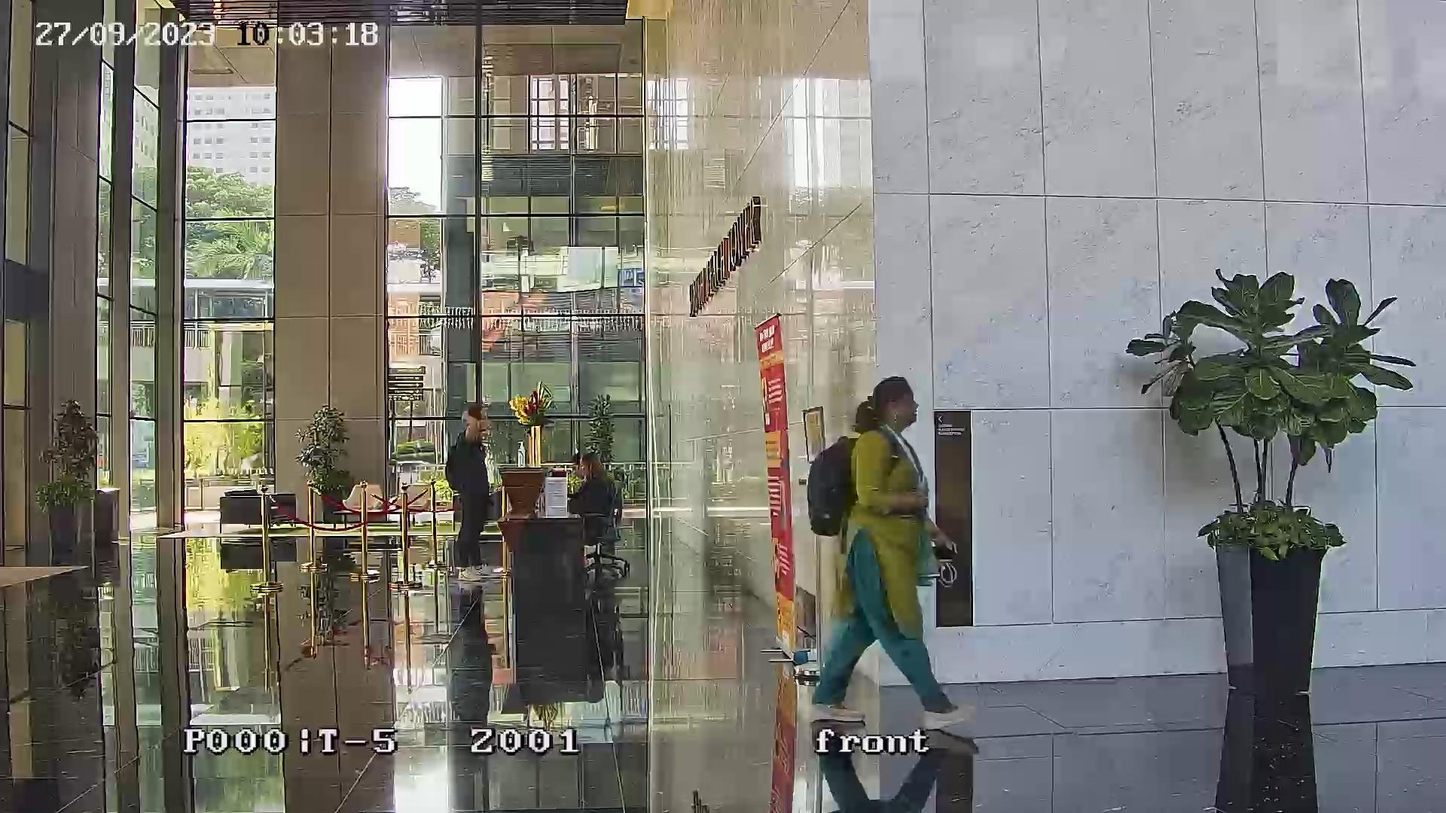person: (810, 375, 964, 717), (567, 449, 625, 677), (447, 398, 500, 573)
